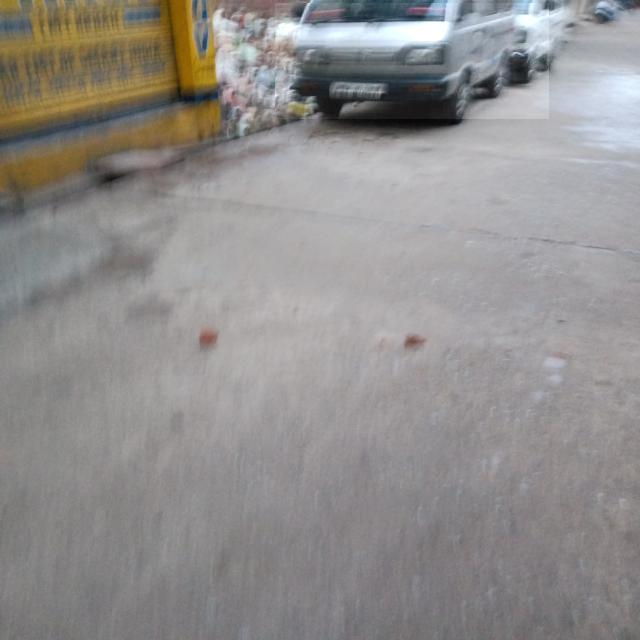Travller: (276, 4, 550, 120)
